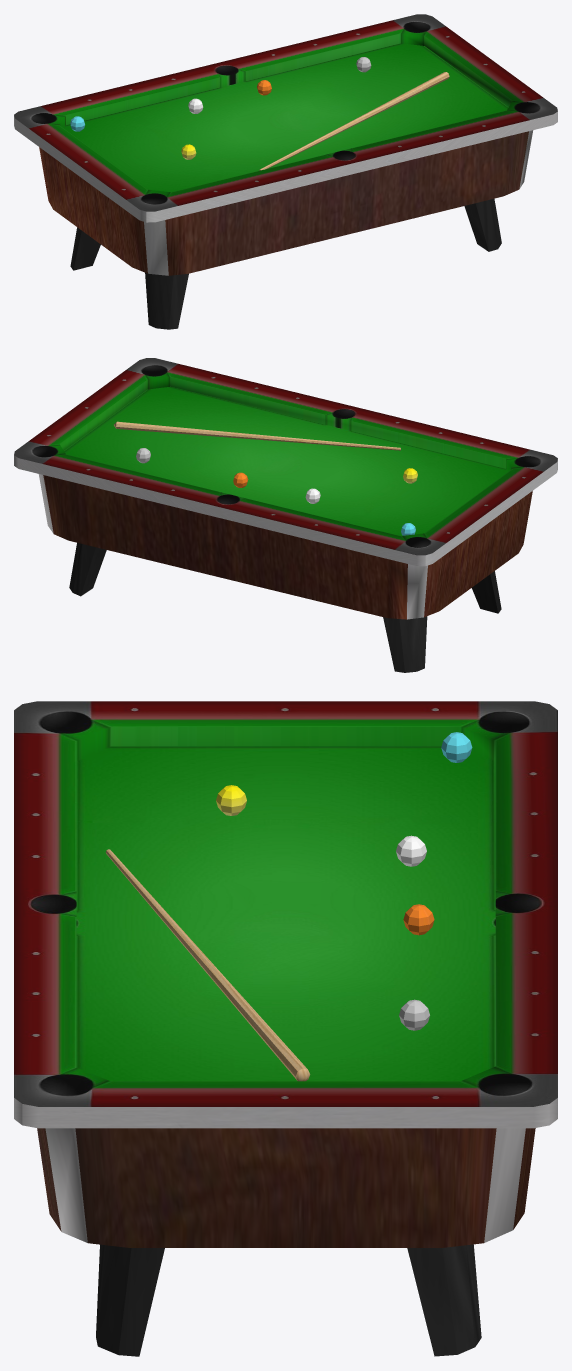
File: poolTM.fbx
3 views of the same model, one above another, from view 1: azimuth 30°, elevation 25°; view 2: azimuth 150°, elevation 25°; view 3: azimuth 270°, elevation 25° (orthographic). The views are drawn at different scales.
Visible parts, largest first — view 1: pCube4; view 2: pCube4; view 3: pCube4.
Part boxes in pixels (box(x1,y1,x2,y2)): pCube4: box(14, 14, 557, 329); pCube4: box(14, 358, 557, 672); pCube4: box(14, 701, 557, 1356).
Size of the model in its own units: 6.56 by 2.2 by 3.72.
